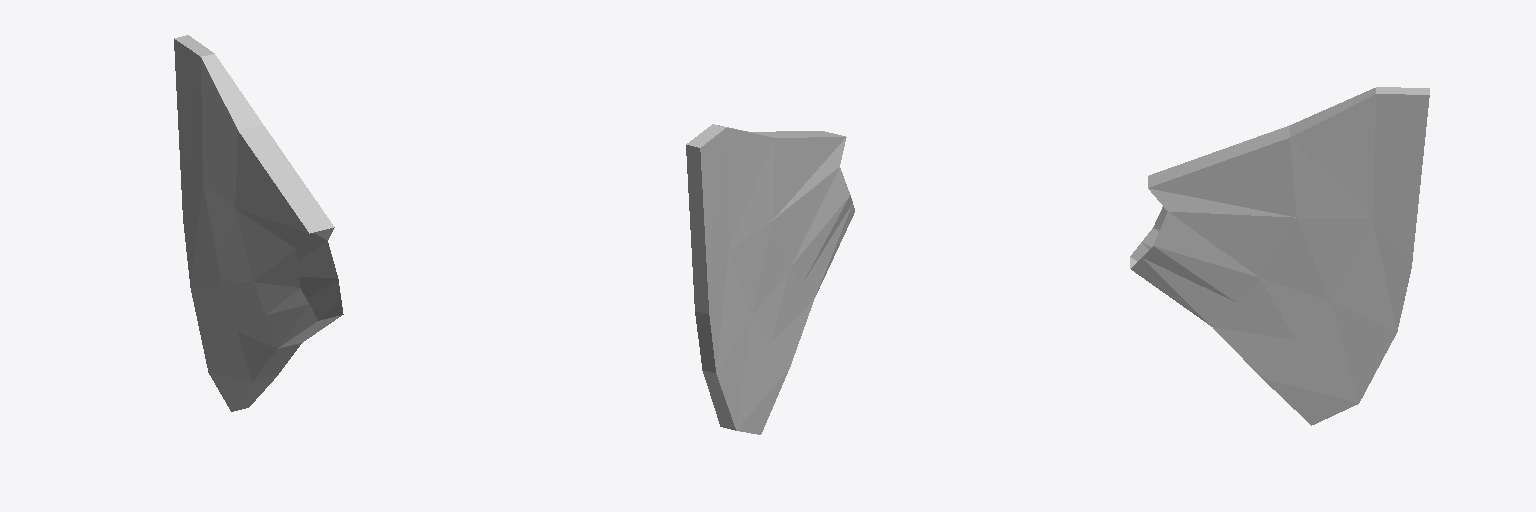
The model's file is colapez.obj.
The picture shows the model from 3 angles: view 1: azimuth 30°, elevation 25°; view 2: azimuth 150°, elevation 25°; view 3: azimuth 270°, elevation 25°; orthographic projection.
Parts seen in each view (by area): view 1: polySurface3 TropicalFish05:TropicalFish05; view 2: polySurface3 TropicalFish05:TropicalFish05; view 3: polySurface3 TropicalFish05:TropicalFish05.
Part boxes in pixels (left/top/right/bottom): polySurface3 TropicalFish05:TropicalFish05: left=174, top=35, right=343, bottom=411; polySurface3 TropicalFish05:TropicalFish05: left=686, top=124, right=854, bottom=434; polySurface3 TropicalFish05:TropicalFish05: left=1130, top=87, right=1429, bottom=425.
Bounding box in the file's own units: 0.117 × 0.973 × 0.7983.